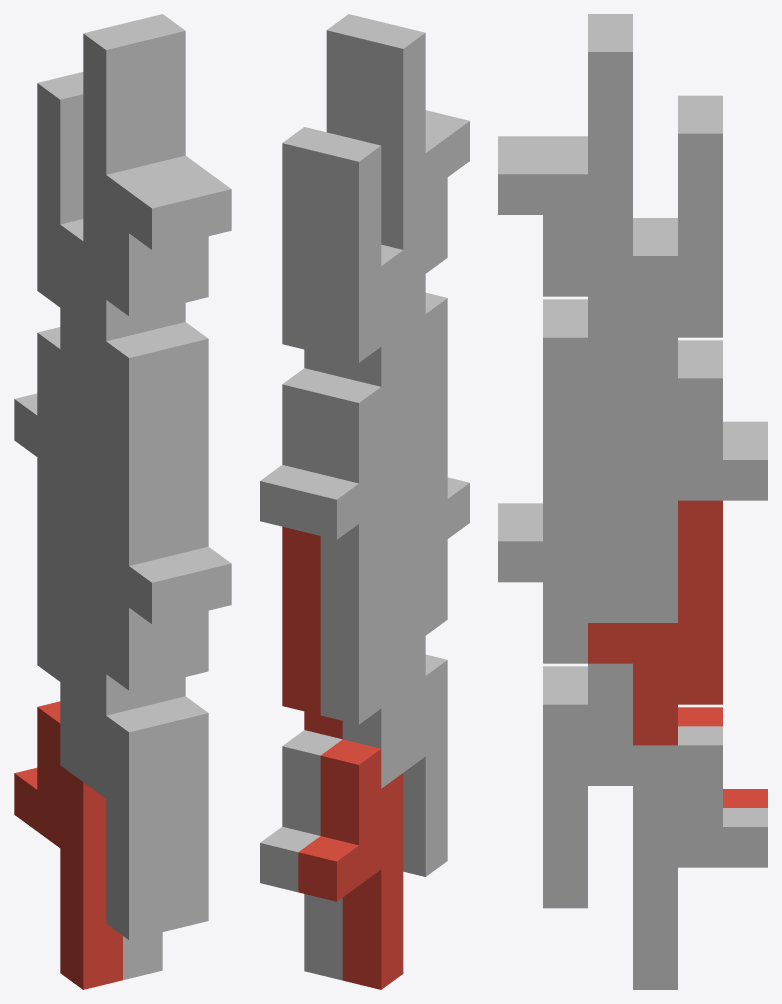
Rendered from tiling.obj.
3 renders of one model, left to right at view 1: azimuth 30°, elevation 25°; view 2: azimuth 150°, elevation 25°; view 3: azimuth 270°, elevation 25°, orthographic. The views are drawn at different scales.
Visible parts, largest first — view 1: copy_2_domain_4, copy_1_domain_2, copy_1_domain_4, copy_1_domain_1, copy_2_domain_2, copy_2_domain_3, copy_2_domain_8, copy_1_domain_6, copy_1_domain_8, copy_1_domain_3, copy_2_domain_1, copy_2_domain_6 (+1 smaller); view 2: copy_1_domain_1, copy_2_domain_3, copy_2_domain_1, copy_2_domain_4, copy_1_domain_3, copy_1_domain_2, copy_1_domain_5, copy_2_domain_7, copy_2_domain_2, copy_1_domain_4, copy_2_domain_5, copy_1_domain_7 (+1 smaller); view 3: copy_2_domain_8, copy_1_domain_7, copy_2_domain_7, copy_1_domain_5, copy_1_domain_6, copy_1_domain_8, copy_2_domain_6, copy_2_domain_5, copy_2_domain_4, copy_1_domain_3, copy_1_domain_1, copy_2_domain_3 (+3 smaller).
Part boxes in pixels (left/top/right/bottom): copy_2_domain_4: left=83, top=23, right=191, bottom=316; copy_1_domain_2: left=60, top=657, right=168, bottom=940; copy_1_domain_4: left=60, top=283, right=168, bottom=565; copy_1_domain_1: left=14, top=701, right=122, bottom=989; copy_2_domain_2: left=83, top=408, right=191, bottom=690; copy_2_domain_3: left=37, top=73, right=106, bottom=365; copy_2_domain_8: left=123, top=14, right=231, bottom=306; copy_1_domain_6: left=146, top=677, right=208, bottom=930; copy_1_domain_8: left=146, top=303, right=208, bottom=556; copy_1_domain_3: left=14, top=327, right=83, bottom=615; copy_2_domain_1: left=37, top=457, right=106, bottom=739; copy_2_domain_6: left=169, top=546, right=231, bottom=680; copy_1_domain_1: left=298, top=739, right=403, bottom=989; copy_2_domain_3: left=320, top=136, right=425, bottom=386; copy_2_domain_1: left=320, top=508, right=425, bottom=748; copy_2_domain_4: left=365, top=23, right=469, bottom=273; copy_1_domain_3: left=298, top=377, right=403, bottom=627; copy_1_domain_2: left=381, top=636, right=447, bottom=876; copy_1_domain_5: left=260, top=730, right=342, bottom=980; copy_2_domain_7: left=282, top=127, right=342, bottom=377; copy_2_domain_2: left=403, top=395, right=469, bottom=635; copy_1_domain_4: left=381, top=274, right=447, bottom=514; copy_2_domain_5: left=282, top=526, right=342, bottom=739; copy_1_domain_7: left=260, top=368, right=342, bottom=530; copy_2_domain_8: left=498, top=33, right=632, bottom=296; copy_1_domain_7: left=633, top=359, right=767, bottom=622; copy_2_domain_7: left=588, top=114, right=722, bottom=378; copy_1_domain_5: left=633, top=726, right=767, bottom=989; copy_1_domain_6: left=543, top=663, right=677, bottom=908; copy_1_domain_8: left=543, top=296, right=677, bottom=541; copy_2_domain_6: left=498, top=419, right=632, bottom=663; copy_2_domain_5: left=588, top=500, right=722, bottom=745; copy_2_domain_4: left=498, top=14, right=632, bottom=155; copy_1_domain_3: left=678, top=340, right=767, bottom=440; copy_1_domain_1: left=678, top=707, right=767, bottom=807; copy_2_domain_3: left=633, top=95, right=722, bottom=236.
Size of the model in its own units: 2 by 23 by 6.
